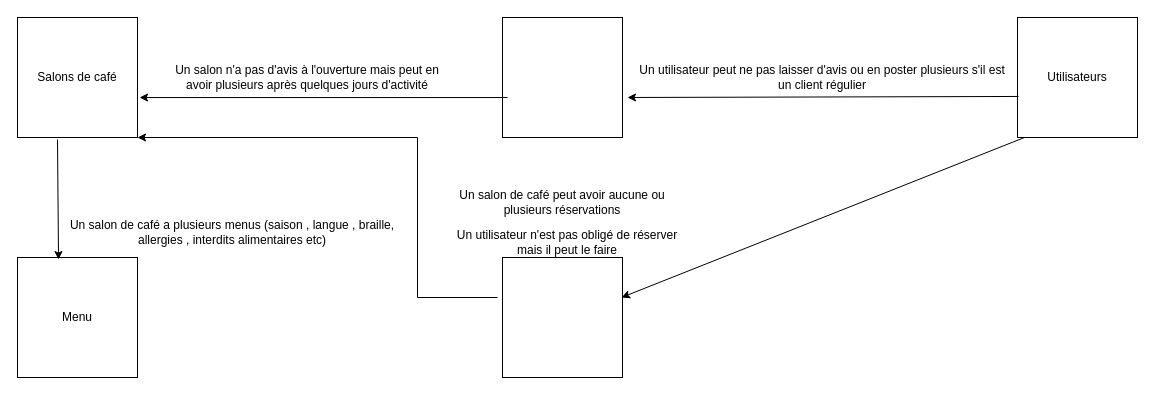
Image size: 1155x395. Some labels were removed from this diagram. Here are the shapes that lost their labels. From the top down, the centre of each, then its label:
point (562, 77): Avis
point (562, 317): Réservations
